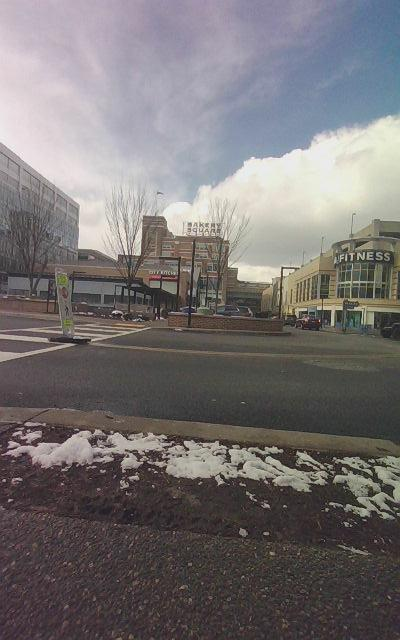curb: (0, 407, 399, 639)
road: (1, 312, 398, 439)
